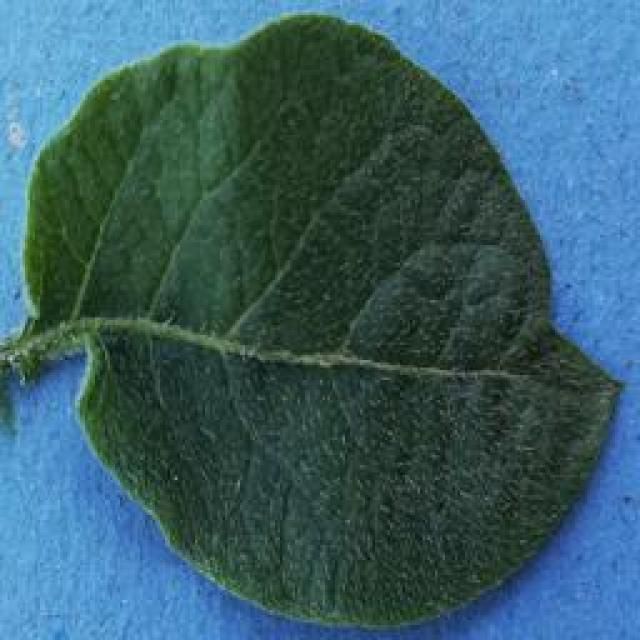Potato_Healthy: (3, 15, 616, 624)
